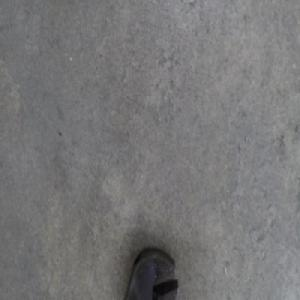AdjustableWrench: (124, 248, 179, 298)
